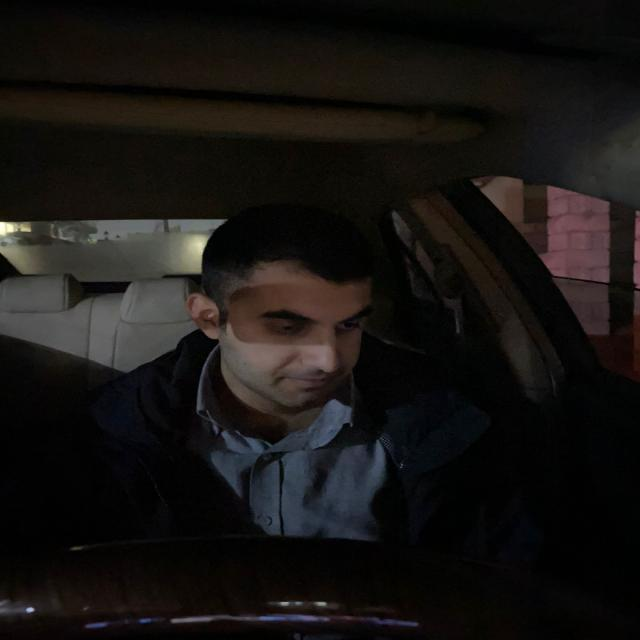person: (183, 200, 395, 420)
